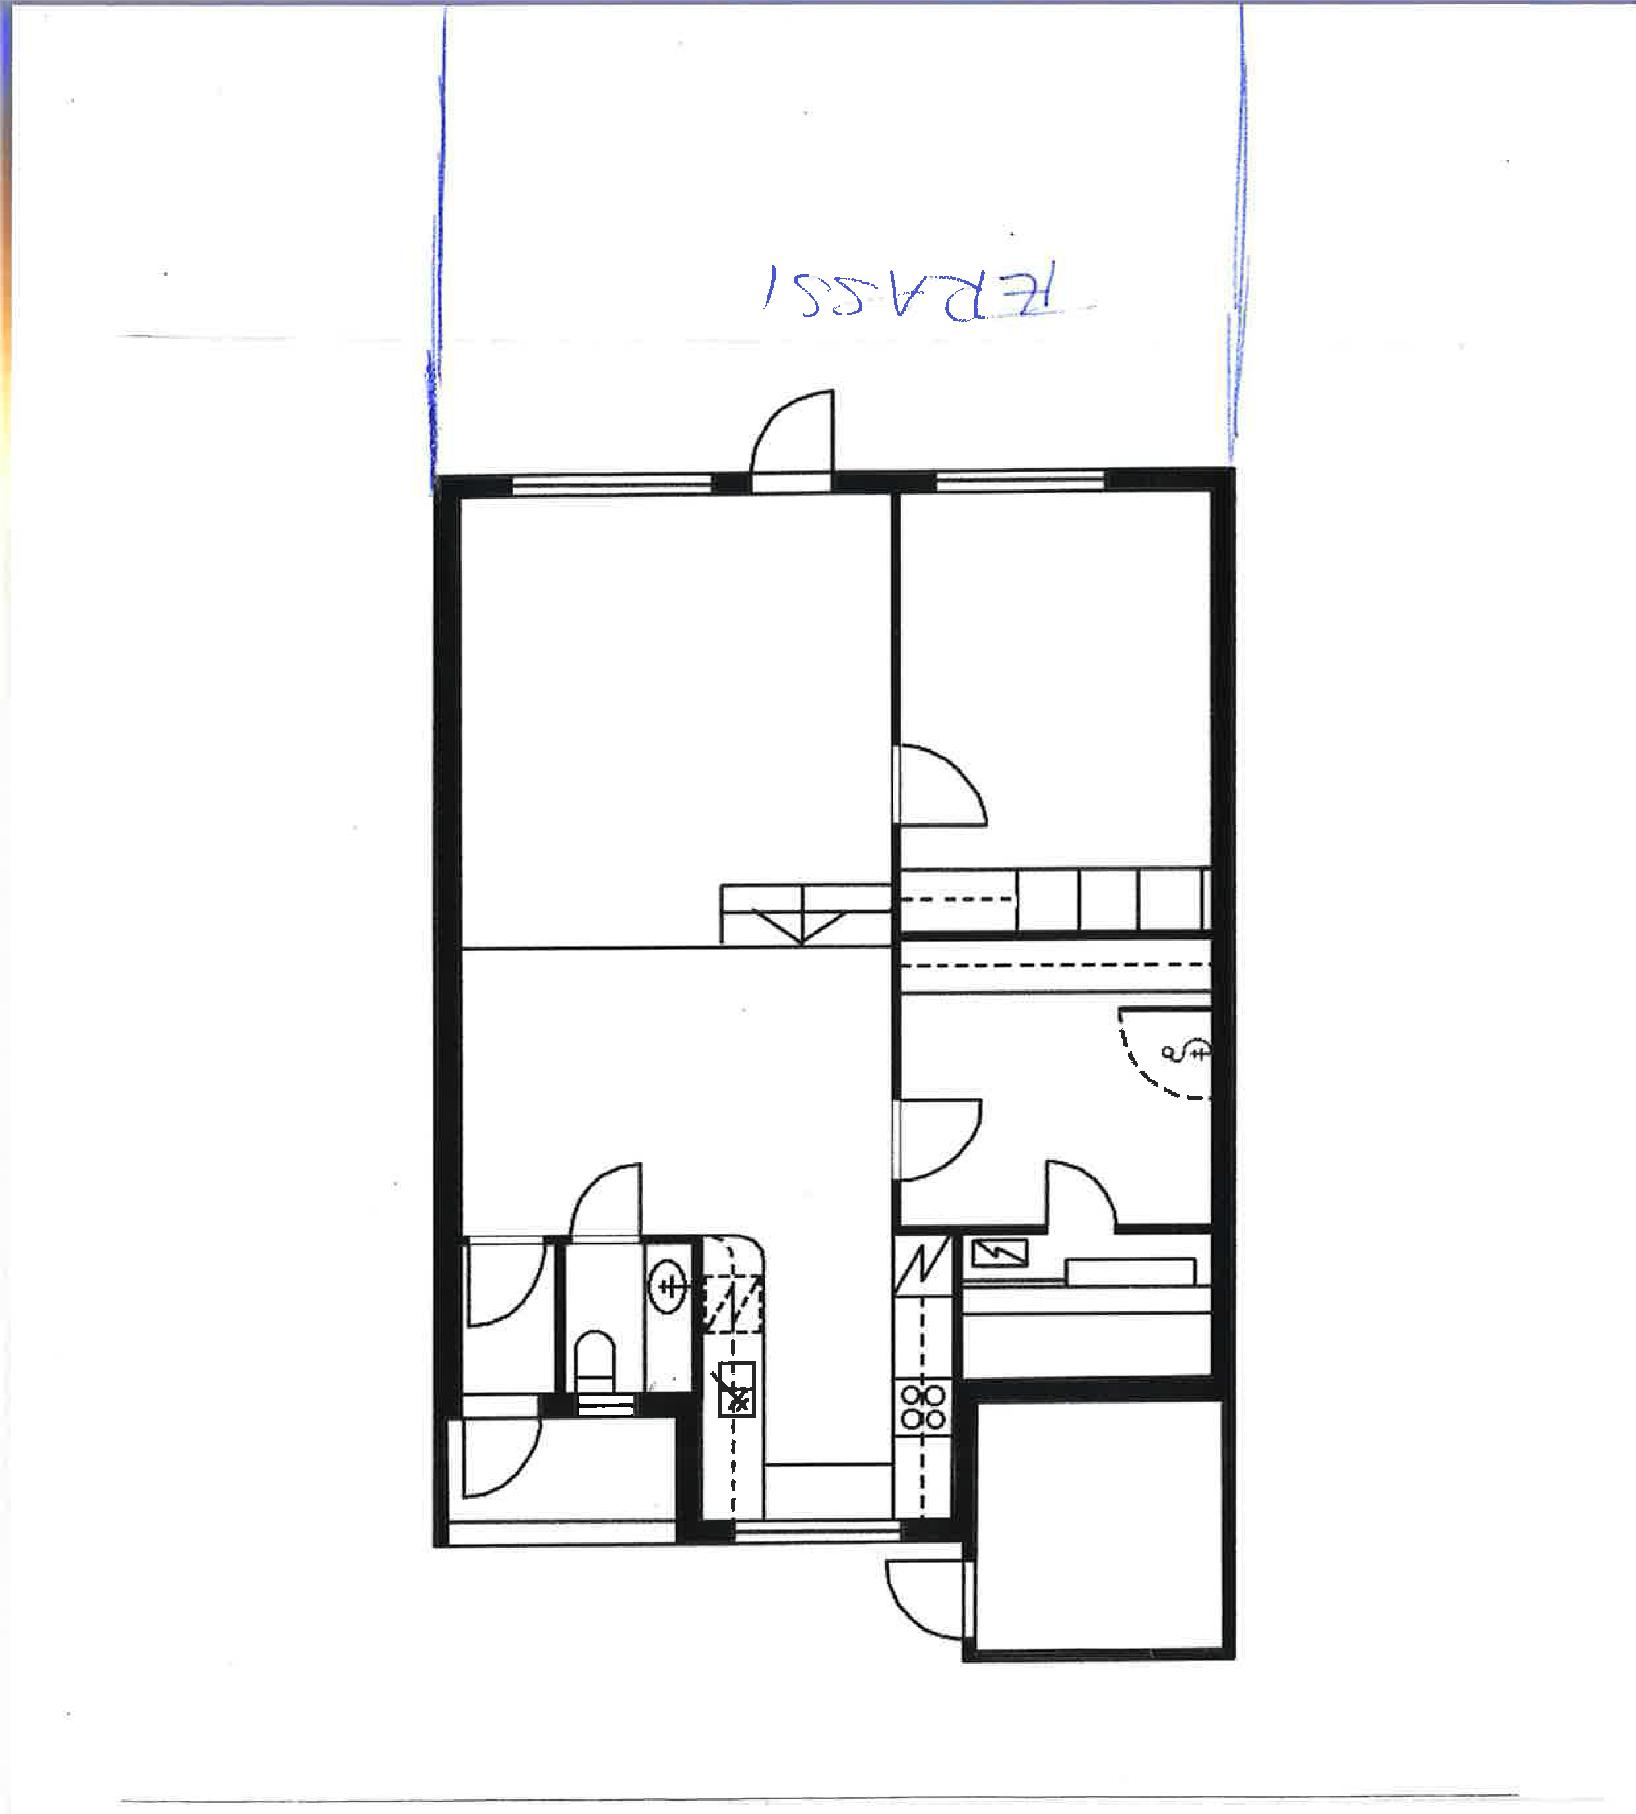door: (747, 384, 845, 497), (884, 1097, 1000, 1190), (466, 1396, 551, 1498), (880, 1557, 976, 1645), (464, 1238, 551, 1328), (561, 1157, 649, 1239), (1045, 1152, 1113, 1233)
window: (726, 1514, 903, 1549), (453, 1520, 677, 1547), (929, 469, 1099, 489), (507, 482, 695, 499)
zone: (436, 2, 1224, 478), (463, 955, 955, 1530), (460, 497, 891, 938), (903, 491, 1206, 927), (902, 943, 1210, 1224), (976, 1400, 1222, 1650), (959, 1233, 1221, 1370), (463, 1418, 677, 1512), (564, 1242, 692, 1397), (467, 1246, 557, 1392)
